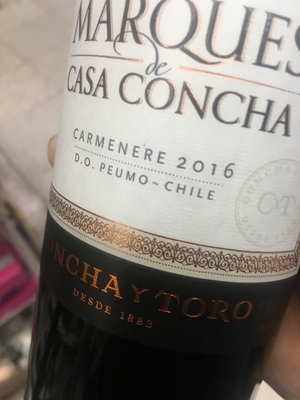marques de casa concha carmenere: (47, 2, 300, 350)
